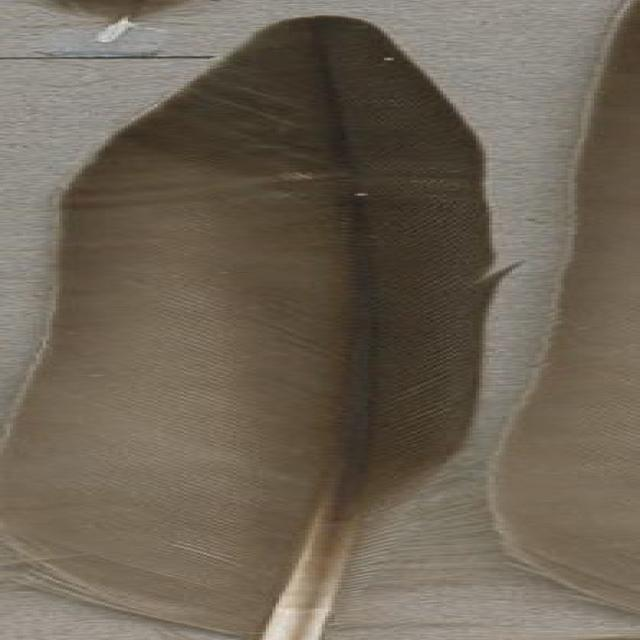feather: (0, 14, 505, 640)
